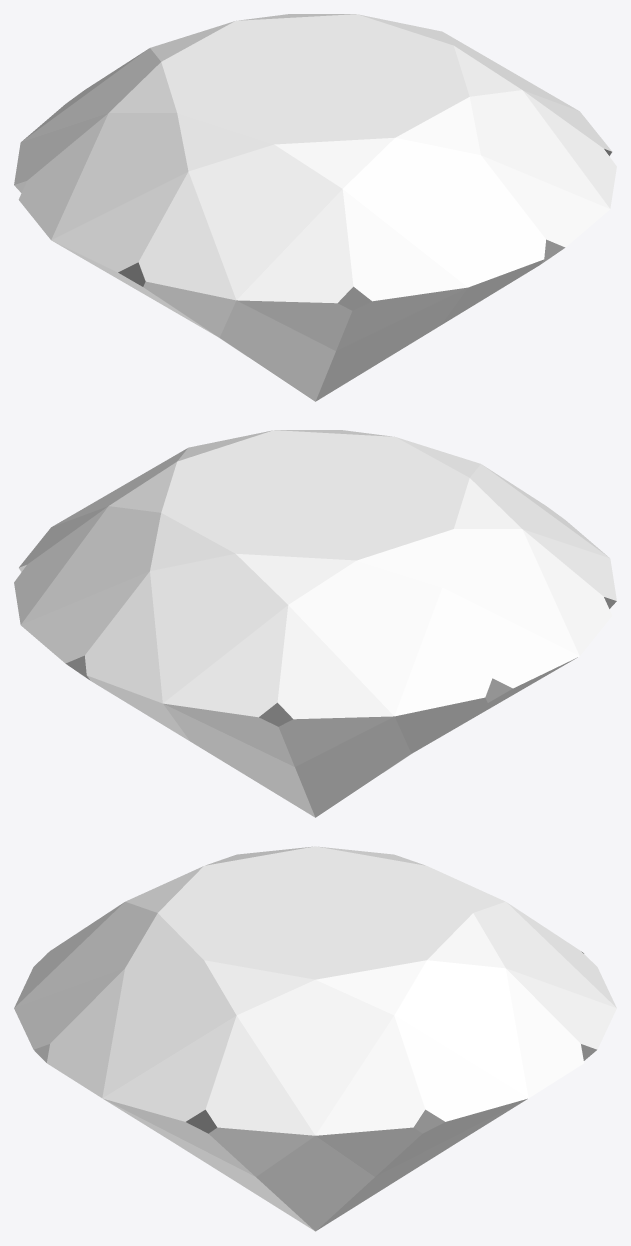
Rendered from elmas.fbx.
3 views of the same model, one above another, from view 1: azimuth 30°, elevation 25°; view 2: azimuth 150°, elevation 25°; view 3: azimuth 270°, elevation 25° (orthographic).
Visible parts, largest first — view 1: diamond_Mesh; view 2: diamond_Mesh; view 3: diamond_Mesh.
Boxes of the visible parts, x1,y1,x2,y2 form: diamond_Mesh: (14,14,616,401); diamond_Mesh: (14,430,616,817); diamond_Mesh: (14,846,616,1231).
Bounding box in the file's own units: 1.46 × 0.8522 × 1.46.
1 material, 1 textured.
